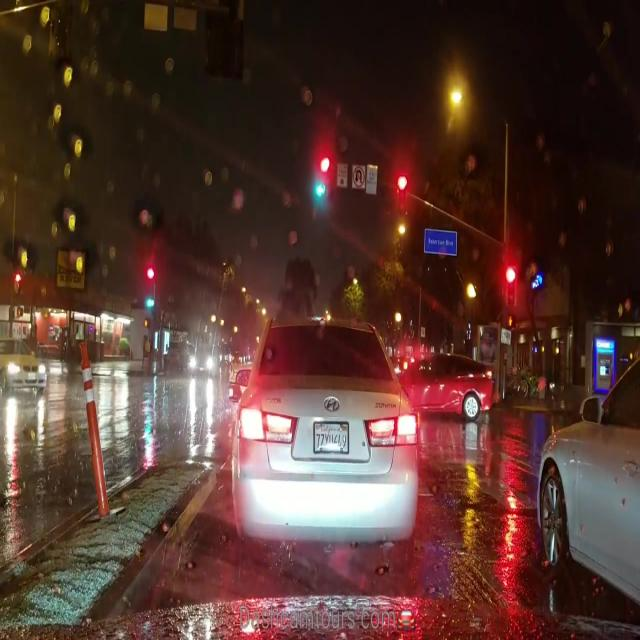Car: (229, 311, 414, 557), (538, 342, 639, 615), (414, 351, 491, 426), (0, 336, 44, 386)
